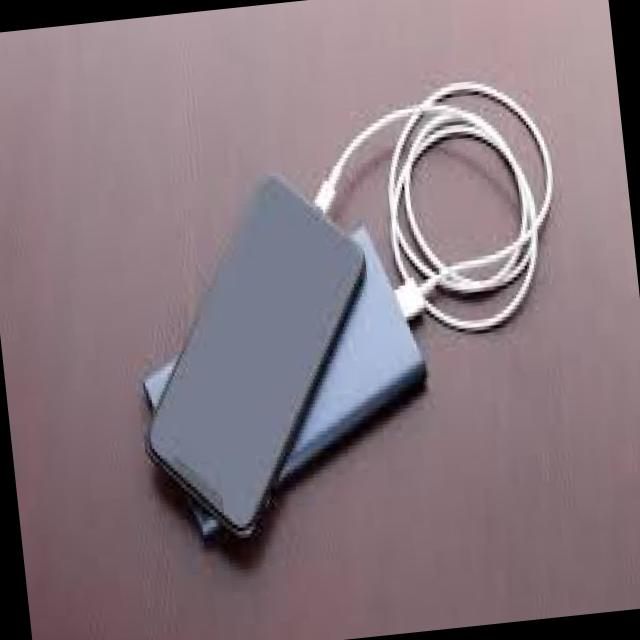power_bank: (126, 224, 453, 562)
